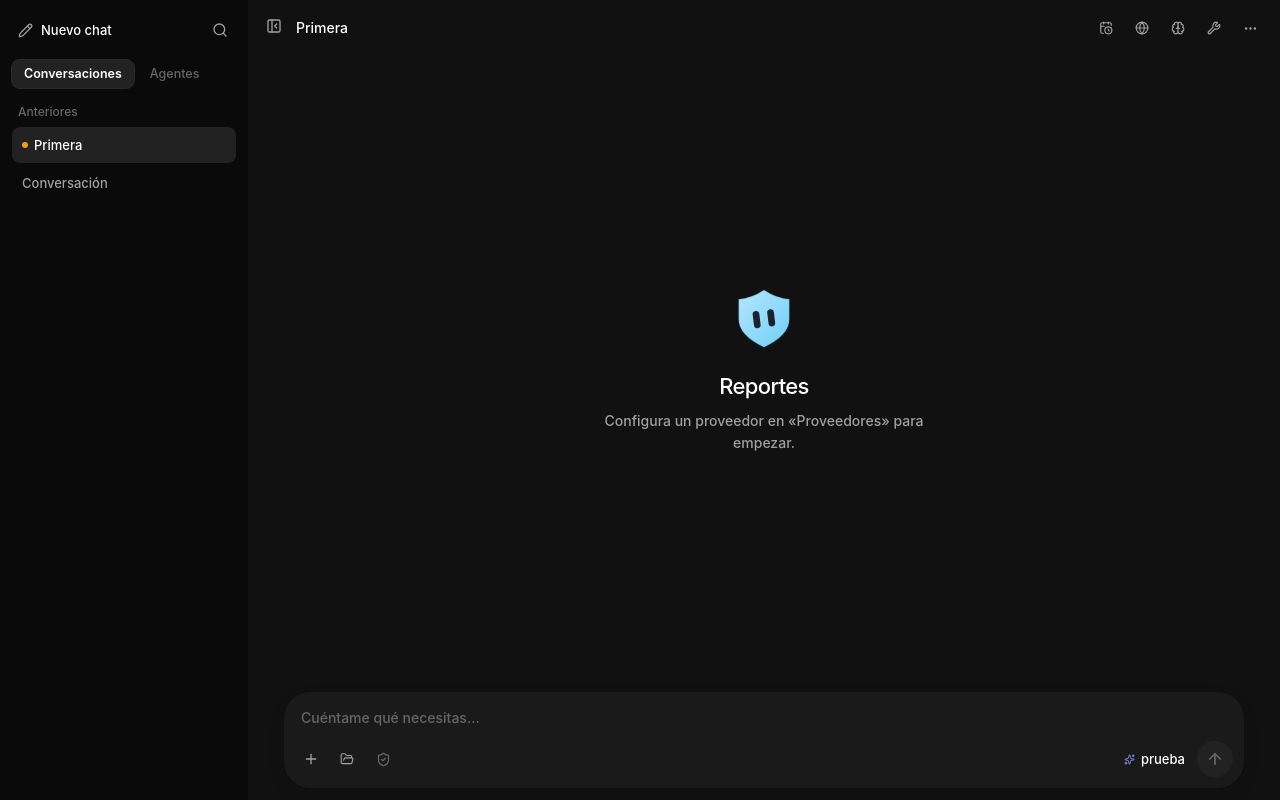
Test case: muestra conversaciones de una sola línea y reserva los avatares de la barra lateral para los agentes
The width and height of the screenshot is (1280, 800).
Expected: the element titled "Proveedor sin conexión" is shown, x1=22 y1=142 x2=28 y2=148
Click the button "Conversación".
click(124, 183)  # box x1=22 y1=165 x2=226 y2=201
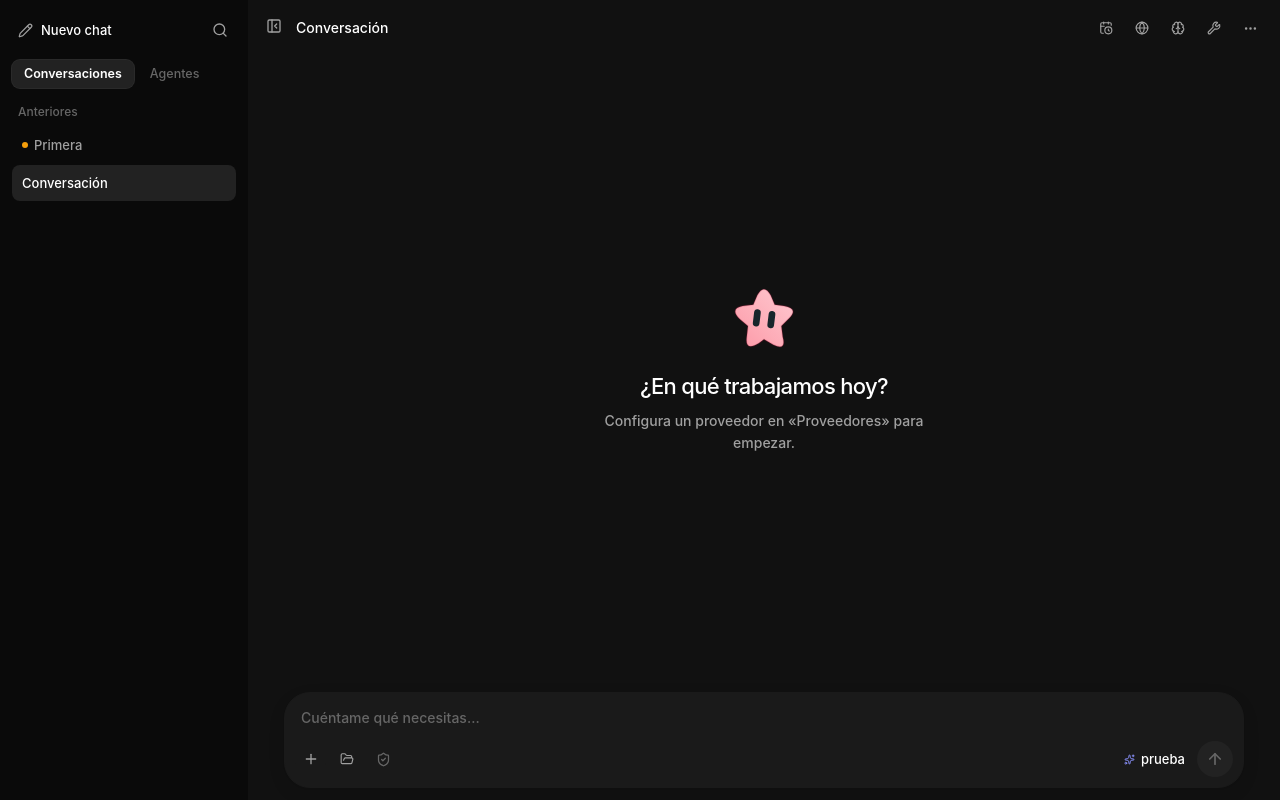
Expected: the button "Conversación" is marked as current, x1=22 y1=165 x2=226 y2=201
Expected: the button "Primera" does not have attribute aria-current, x1=22 y1=127 x2=226 y2=163
Click the button "Agentes".
click(175, 74)  # box x1=138 y1=60 x2=211 y2=88
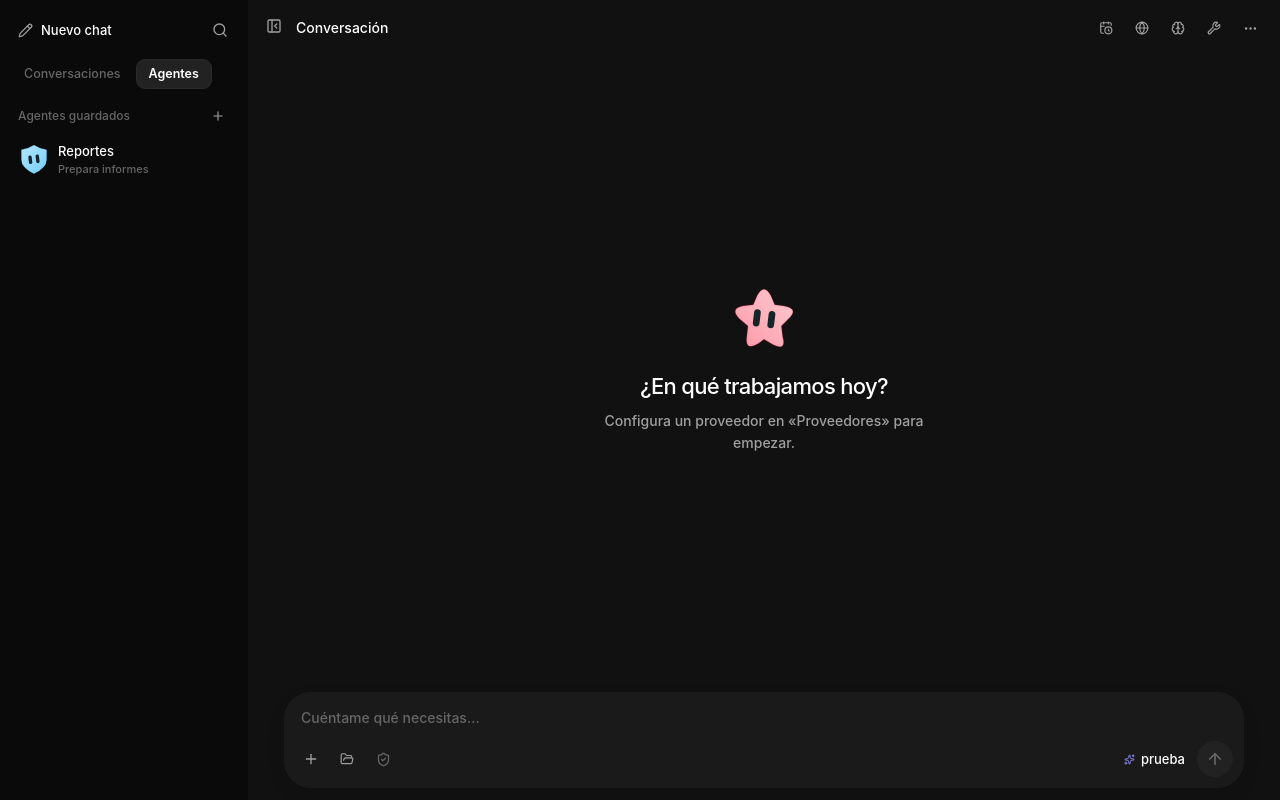
Expected: the picture named "Reportes" is shown, x1=18 y1=143 x2=50 y2=175
